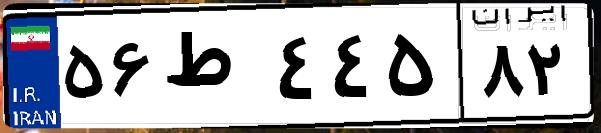2: (525, 38, 570, 115)
4: (270, 28, 330, 110), (330, 28, 385, 110)
5: (385, 28, 445, 110), (57, 26, 110, 100)
6: (110, 28, 158, 98)
8: (475, 38, 525, 113)
ط: (158, 20, 270, 120)
